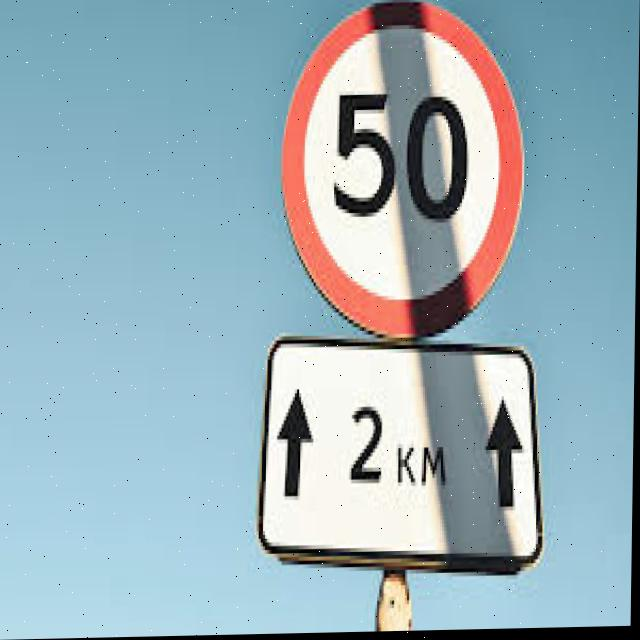Speed limit 50: (277, 1, 530, 343)
